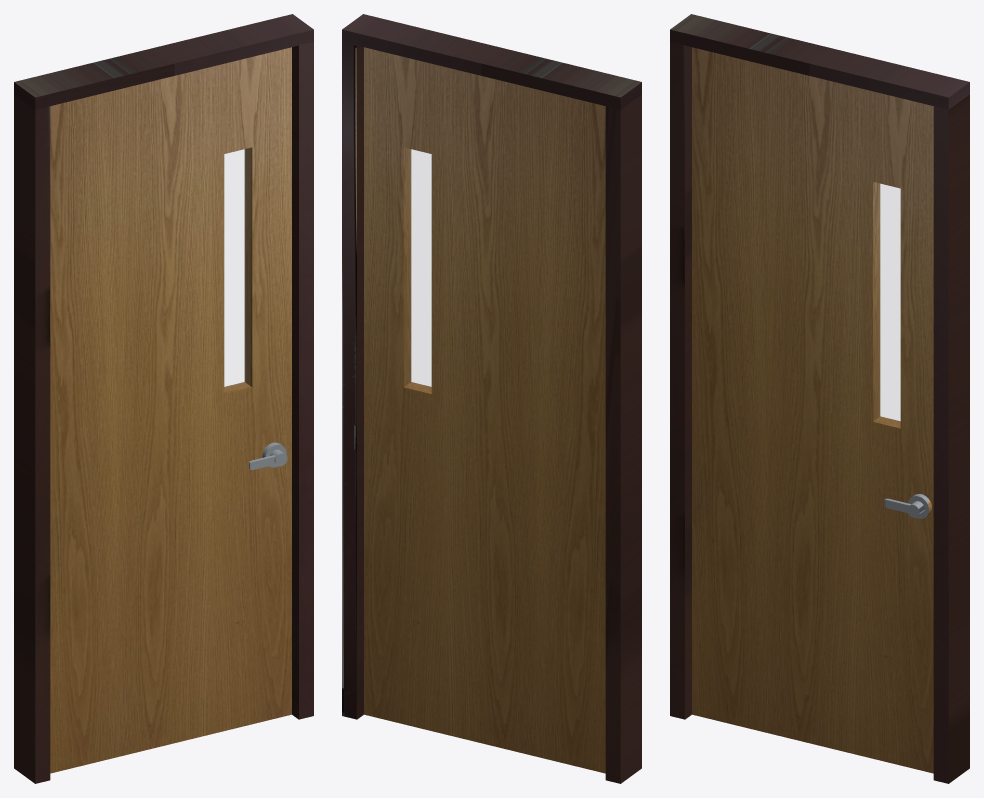
File: door-fixed-f.fbx
The picture shows the model from 3 angles, left to right: view 1: azimuth 30°, elevation 25°; view 2: azimuth 150°, elevation 25°; view 3: azimuth 330°, elevation 25°; orthographic projection.
Parts seen in each view (by area): view 1: door; view 2: door; view 3: door.
Boxes of the visible parts, x1=… form: door: x1=14, y1=14, x2=313, y2=783; door: x1=342, y1=14, x2=641, y2=783; door: x1=670, y1=14, x2=969, y2=783.
Size of the model in its own units: 192 by 26.94 by 453.
3 materials, 1 textured.
